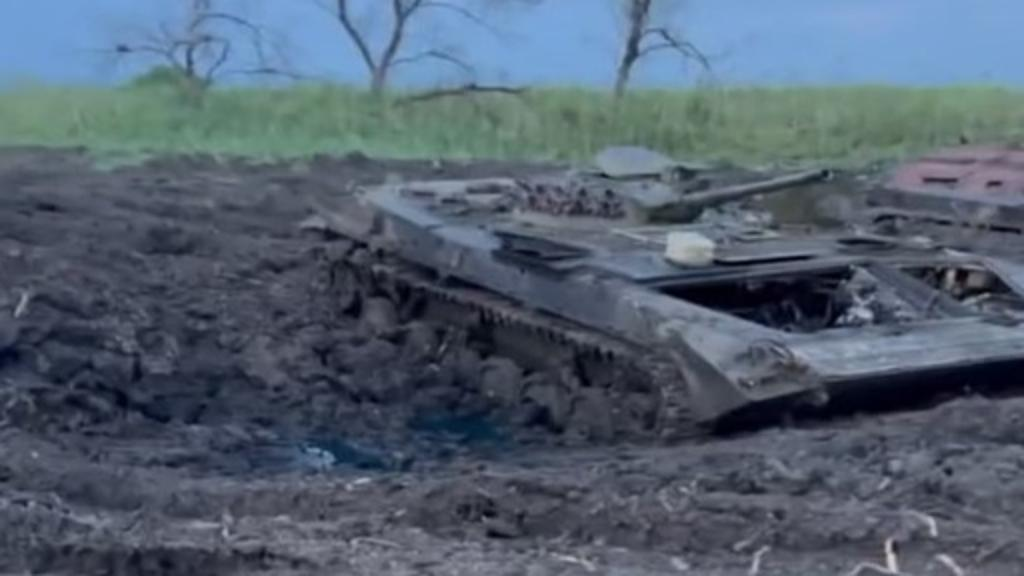APC-IFV: (308, 136, 1022, 448)
